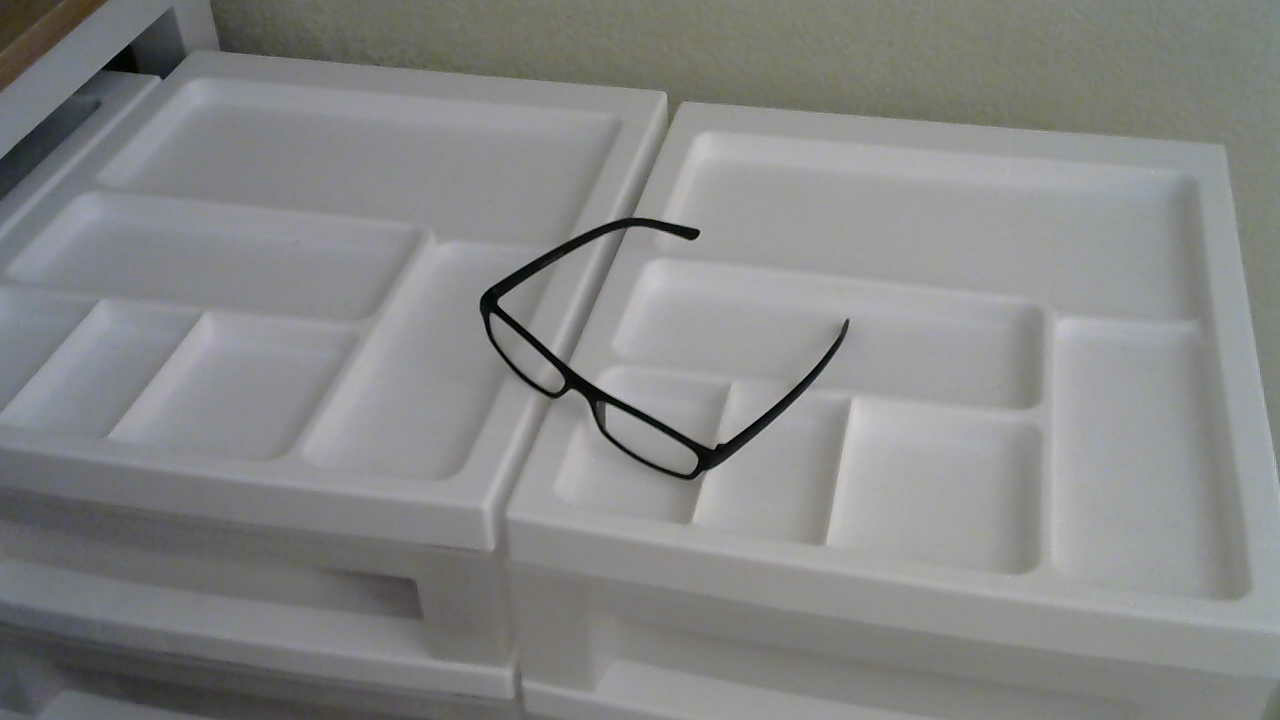Glasses: (439, 189, 882, 494)
